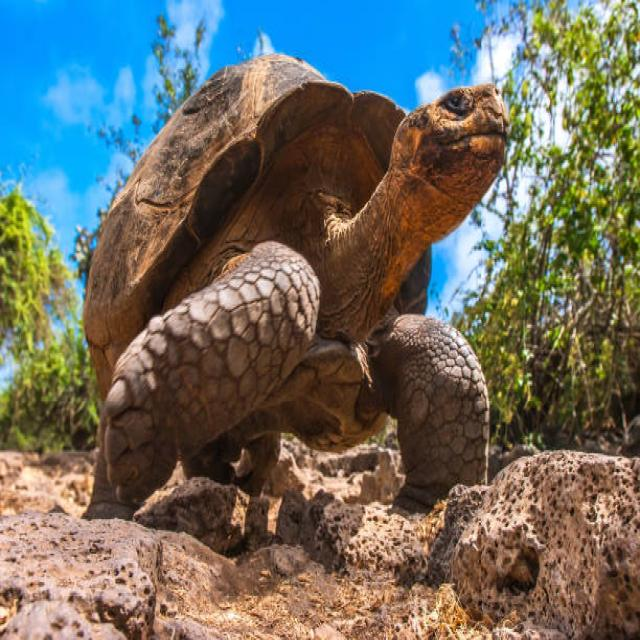tortoise: (74, 32, 438, 490), (94, 243, 328, 494), (377, 68, 523, 252), (374, 310, 499, 523)
